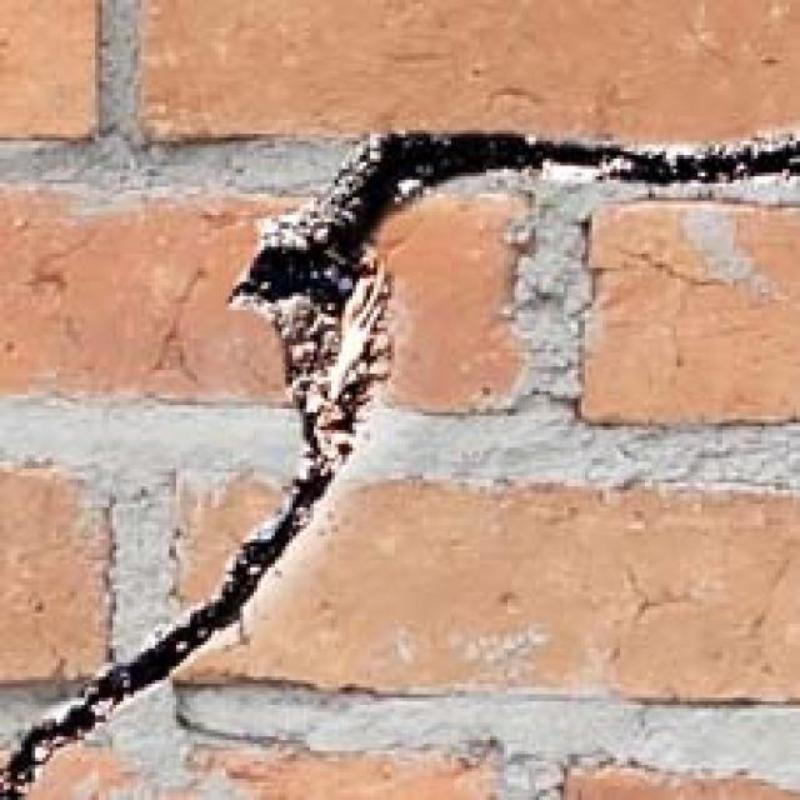crack: (0, 133, 800, 799)
